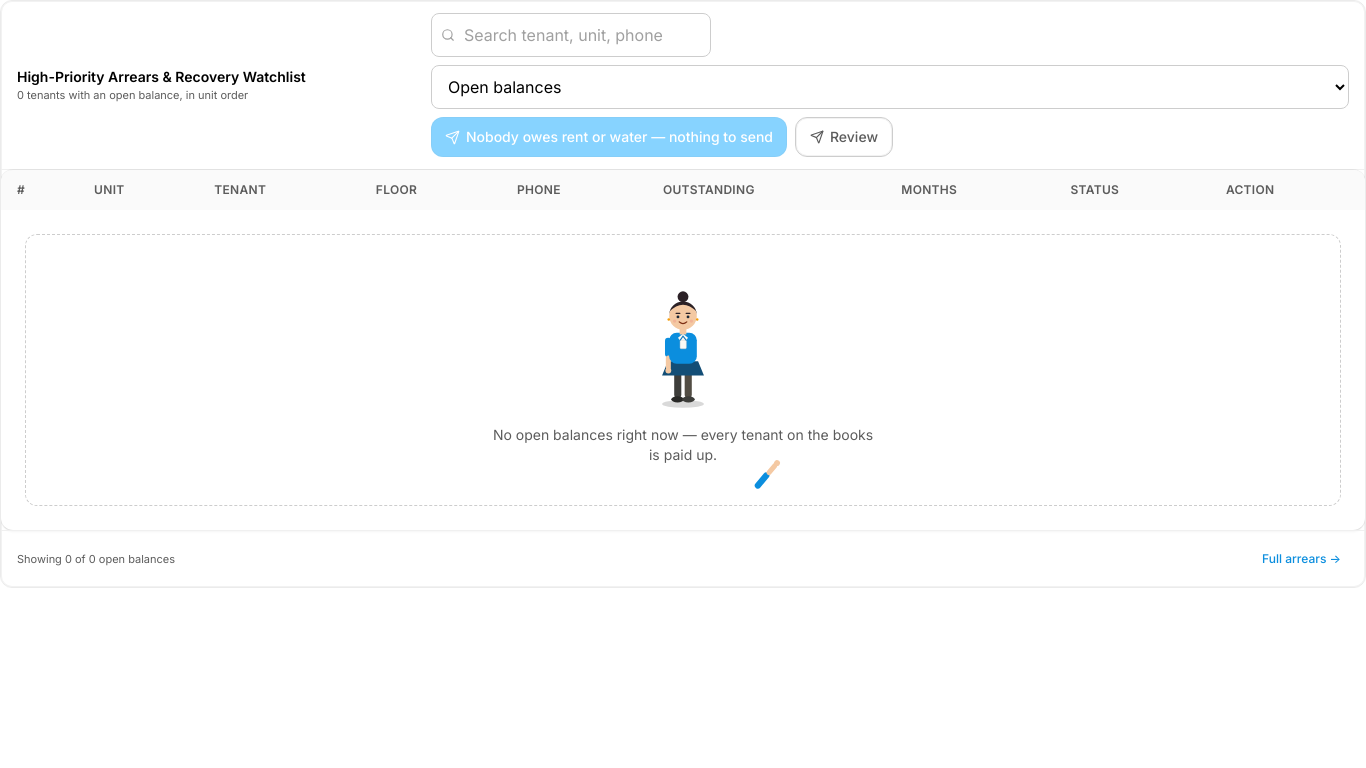
Test: ExecWatchlist (empty states) › shows the row when the chosen status does match
This screenshot has width=1366, height=768.
Select "Overpaid" in the dropdown named "Filter by status" at (890, 87), box [431,65,1349,109]
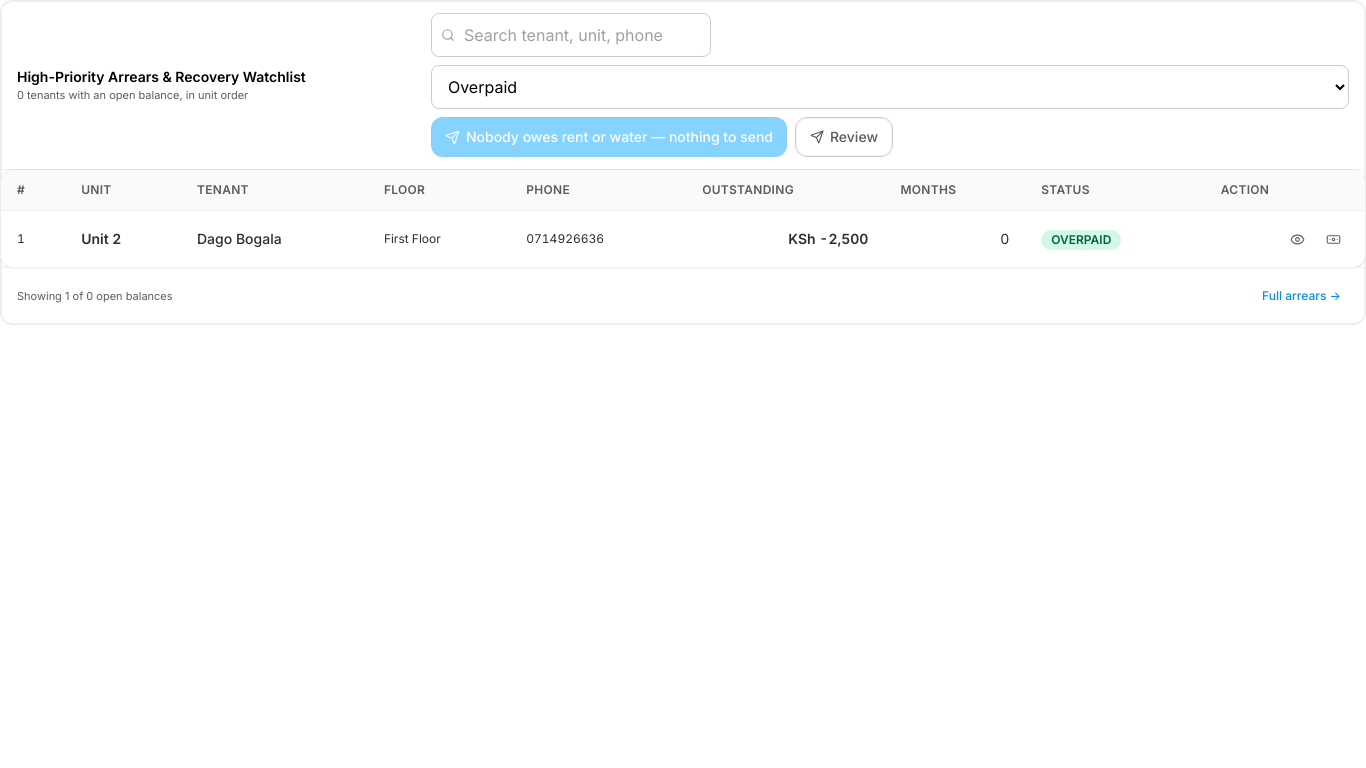
Expected: the text "Dago Bogala" is shown, [181,210,368,267]
